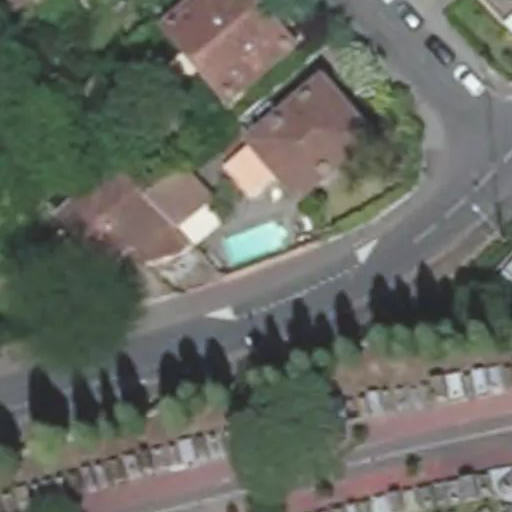pool: (222, 237, 294, 243)
